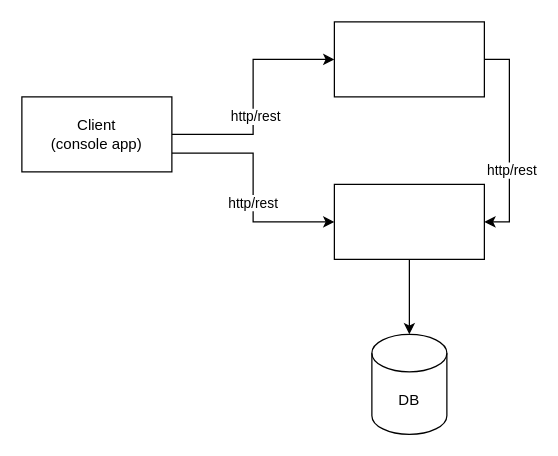
This 558x456 diagram has some shape labels left out. Each missing label, with the box of its shape:
ServiceA (web app): (333, 21, 484, 97)
ServiceB (web app): (333, 183, 484, 259)
